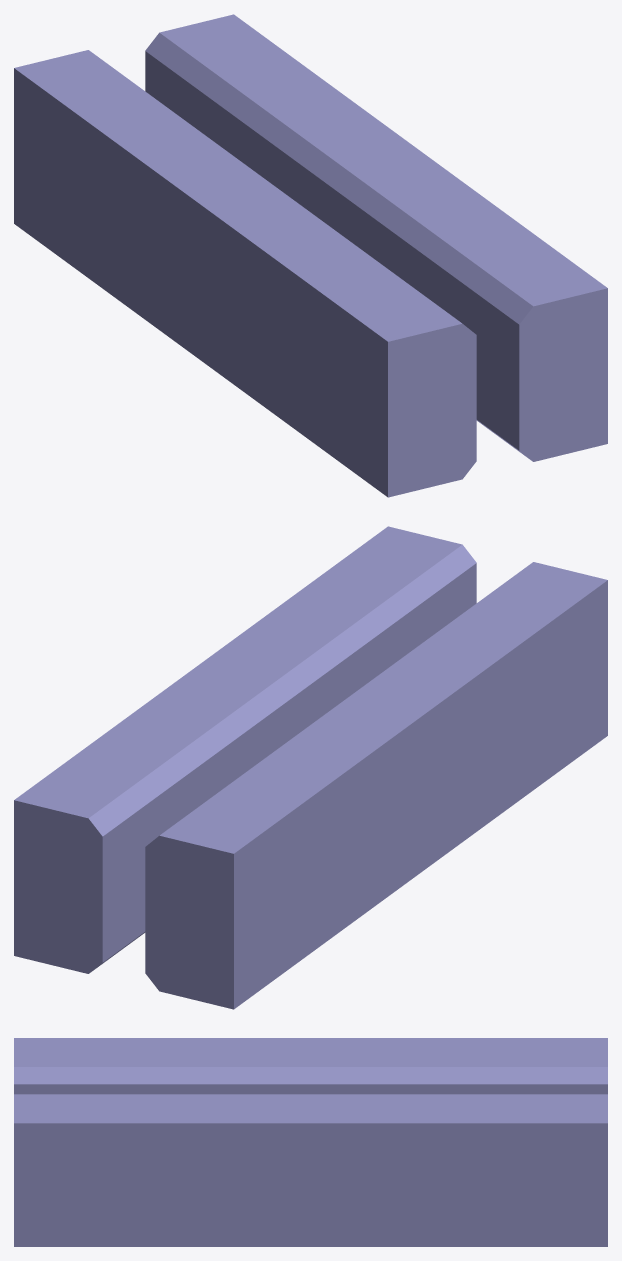
Rendered from FlashMagnetCore.gltf.
The picture shows the model from 3 angles, top to bottom: view 1: azimuth 30°, elevation 25°; view 2: azimuth 150°, elevation 25°; view 3: azimuth 270°, elevation 25°; orthographic projection. The views are drawn at different scales.
Parts seen in each view (by area): view 1: logicFlashMagnetCore_pv0x221c3c8, logicFlashMagnetCore_pv0x221c5f8; view 2: logicFlashMagnetCore_pv0x221c3c8, logicFlashMagnetCore_pv0x221c5f8; view 3: logicFlashMagnetCore_pv0x221c5f8, logicFlashMagnetCore_pv0x221c3c8.
Part boxes in pixels (bbox=[...]): logicFlashMagnetCore_pv0x221c3c8: bbox=[14, 50, 476, 497]; logicFlashMagnetCore_pv0x221c5f8: bbox=[145, 14, 607, 461]; logicFlashMagnetCore_pv0x221c3c8: bbox=[145, 562, 607, 1009]; logicFlashMagnetCore_pv0x221c5f8: bbox=[14, 526, 476, 973]; logicFlashMagnetCore_pv0x221c5f8: bbox=[14, 1094, 607, 1246]; logicFlashMagnetCore_pv0x221c3c8: bbox=[14, 1038, 607, 1094].
Bounding box in the file's own units: 31.03 × 21 × 91.44.
